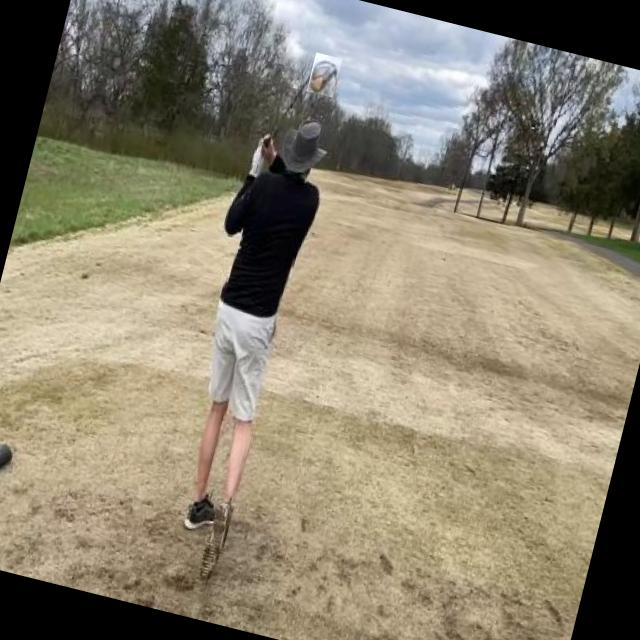club head: (306, 52, 342, 97)
